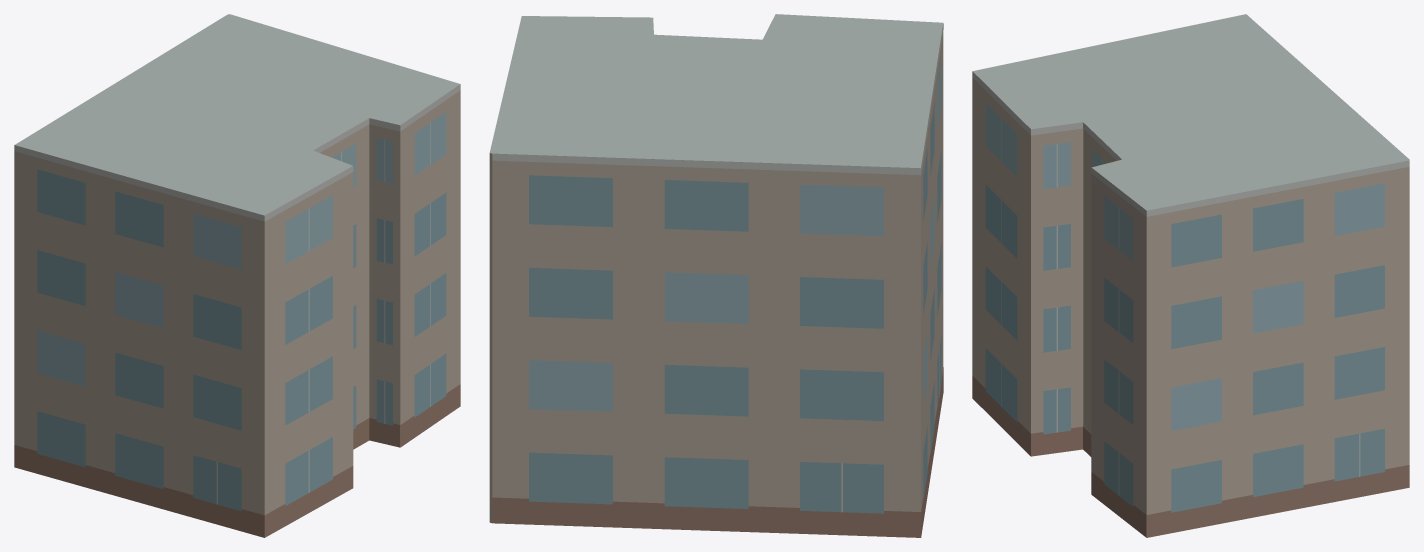
The model's file is survey-upis-32736488.glb.
3 views of the same model, side by side, from view 1: azimuth 30°, elevation 25°; view 2: azimuth 150°, elevation 25°; view 3: azimuth 270°, elevation 25° (orthographic). The views are drawn at different scales.
Parts seen in each view (by area): view 1: survey-upis-32736488.tmp; view 2: survey-upis-32736488.tmp; view 3: survey-upis-32736488.tmp.
Boxes of the visible parts, bbox=[...] form: survey-upis-32736488.tmp: bbox=[14, 14, 460, 537]; survey-upis-32736488.tmp: bbox=[489, 14, 943, 537]; survey-upis-32736488.tmp: bbox=[972, 14, 1409, 537].
Bounding box in the file's own units: 16.51 × 12.8 × 15.51.
